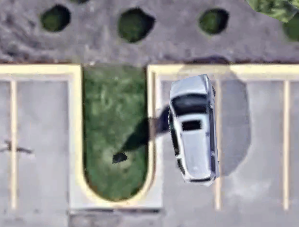Occupied: (155, 74, 218, 210)
Vacant: (217, 75, 287, 210), (13, 76, 71, 210)
